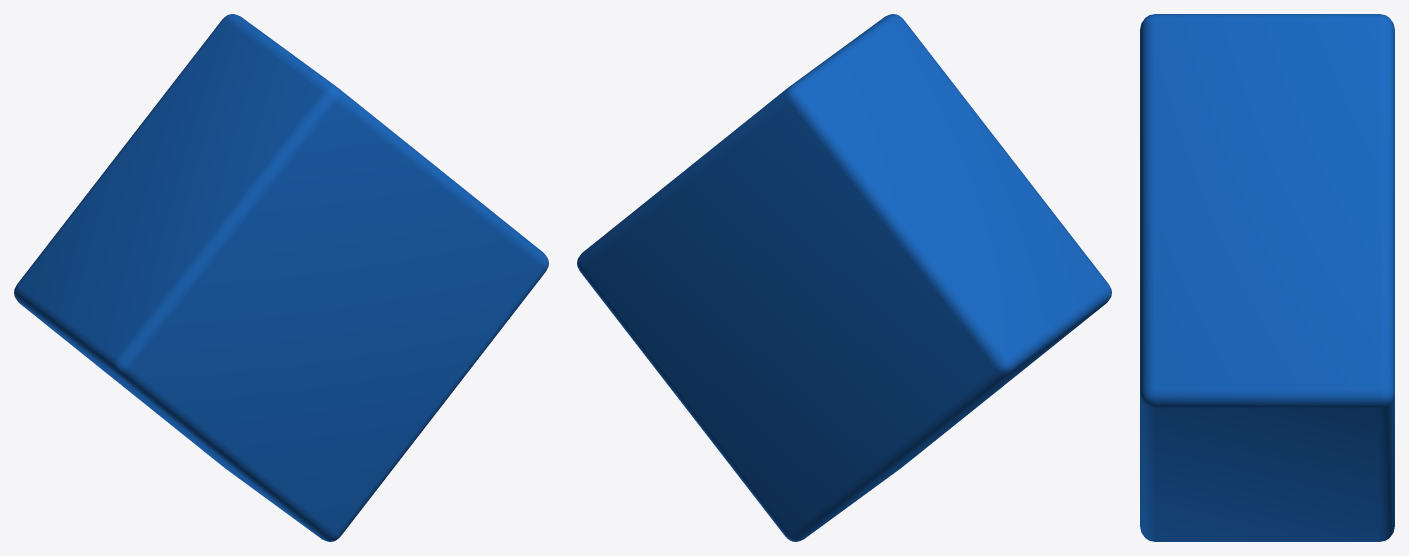
File: small_blue_diamond.glb
3 renders of one model, left to right at view 1: azimuth 30°, elevation 25°; view 2: azimuth 150°, elevation 25°; view 3: azimuth 270°, elevation 25°, orthographic. The views are drawn at different scales.
Parts seen in each view (by area): view 1: large_blue_diamond.001; view 2: large_blue_diamond.001; view 3: large_blue_diamond.001.
Part boxes in pixels (x1,y1,x2,y2): large_blue_diamond.001: (14,14,548,541); large_blue_diamond.001: (577,14,1111,541); large_blue_diamond.001: (1140,14,1394,541).
Size of the model in its own units: 1.7 by 1.7 by 0.7456.
1 material, 1 textured.
